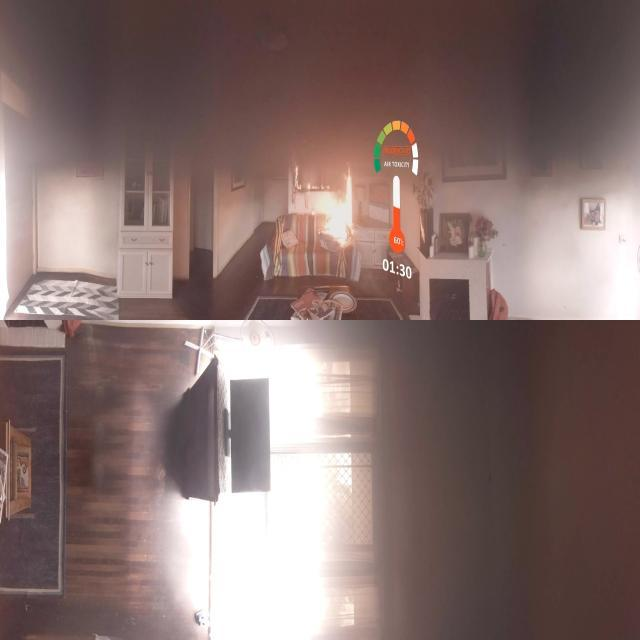Fire: (313, 170, 357, 249)
